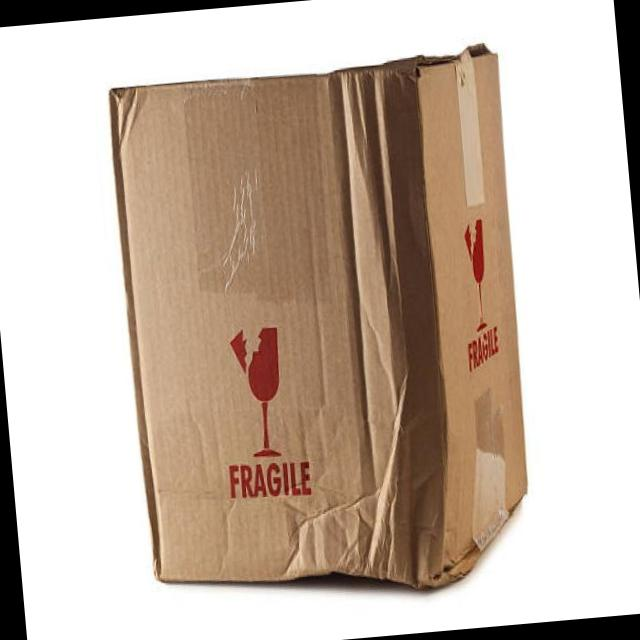box: (108, 40, 529, 592)
crushed: (269, 55, 449, 590)
